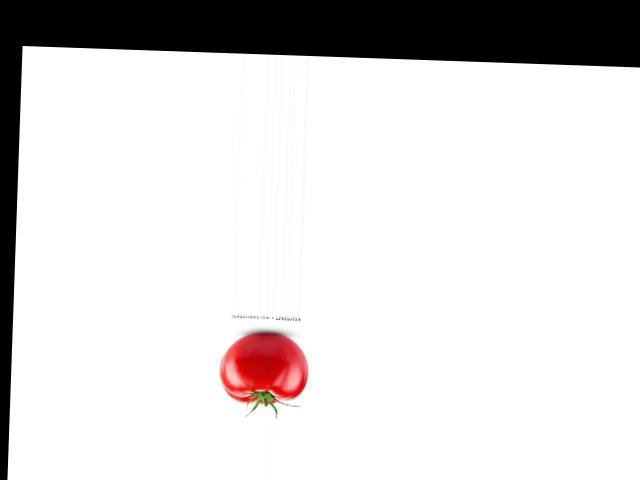tomato: (218, 332, 309, 404)
